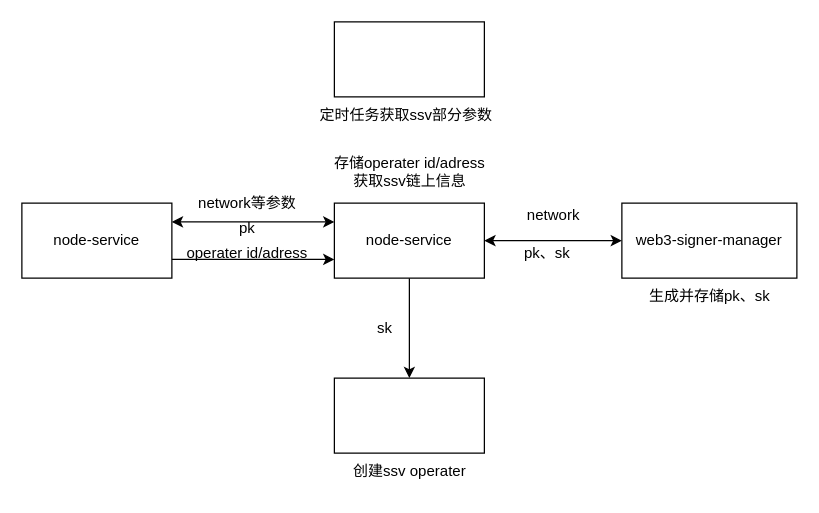
The diagram is 819 pixels wide and 513 high, and some of its shapes have lost their labels. The shapes that lost their labels are listed below. From the top down, each one's box as (x1, y1, x2, y2) in pixels, then its label:
(333, 21, 484, 97): node-task
(333, 377, 484, 453): web3-helm
